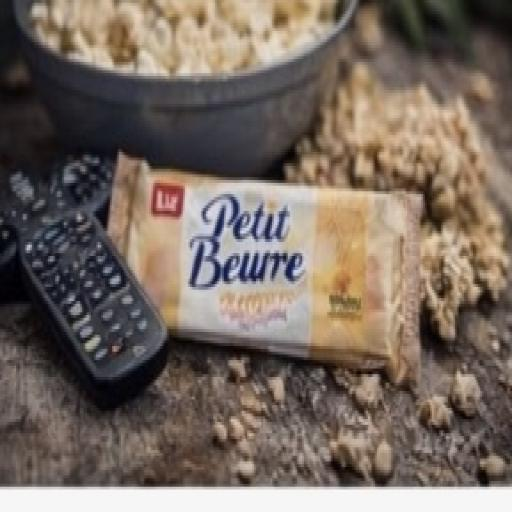petit_beurre: (76, 67, 508, 443)
